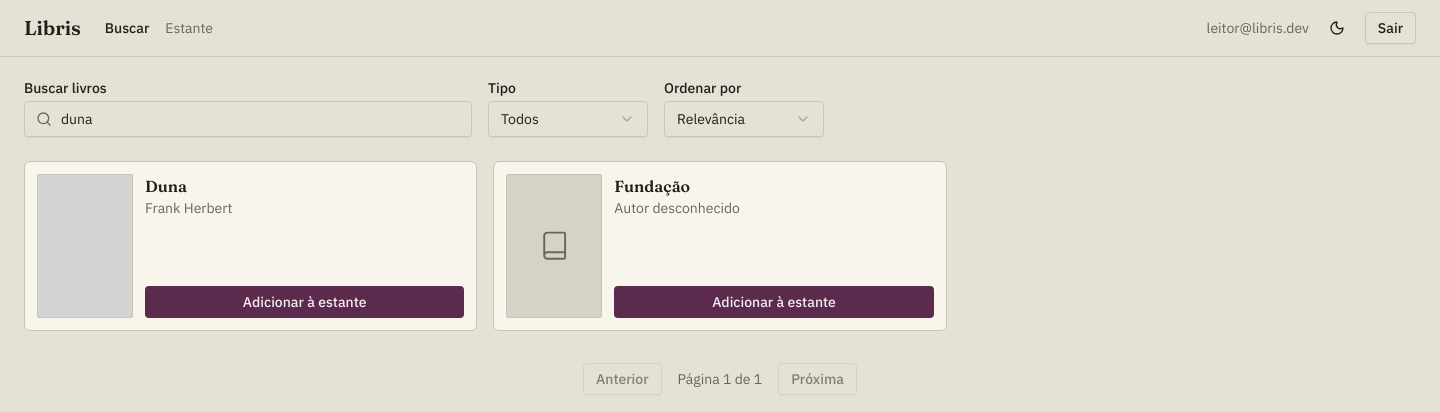
it: Integração: busca → estante › adicionar um livro pelo BookCard na busca faz ele aparecer na estante com status "Quero Ler"
Check: the text "Duna" is shown, box x1=145 y1=176 x2=187 y2=196
Check: the text "Fundação" is shown, box x1=614 y1=176 x2=690 y2=196
Click the button "Adicionar à estante" below "Frank Herbert": (305,302) x1=145 y1=286 x2=464 y2=318
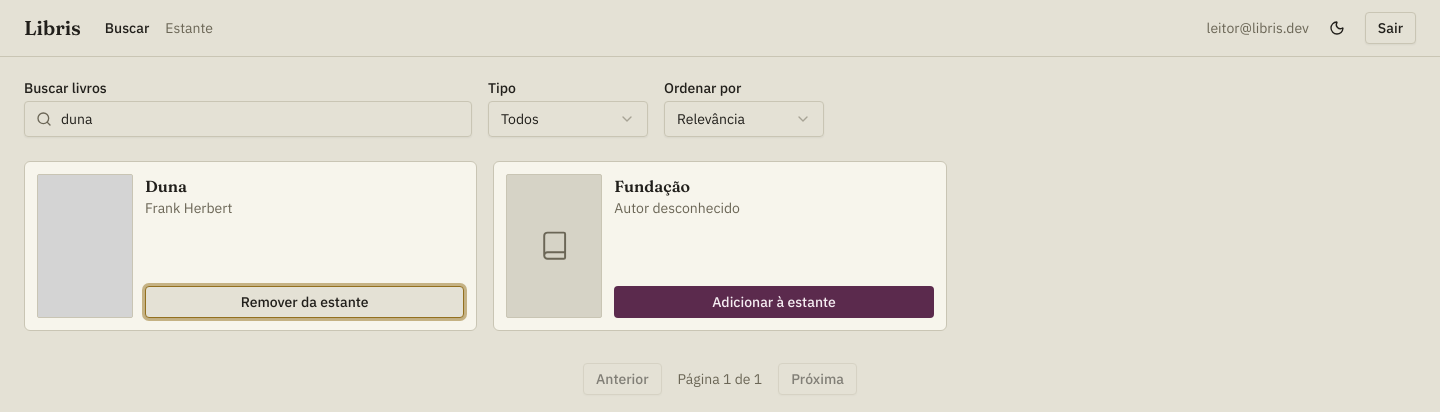
Click the link "Estante": (189,28) x1=165 y1=18 x2=213 y2=38
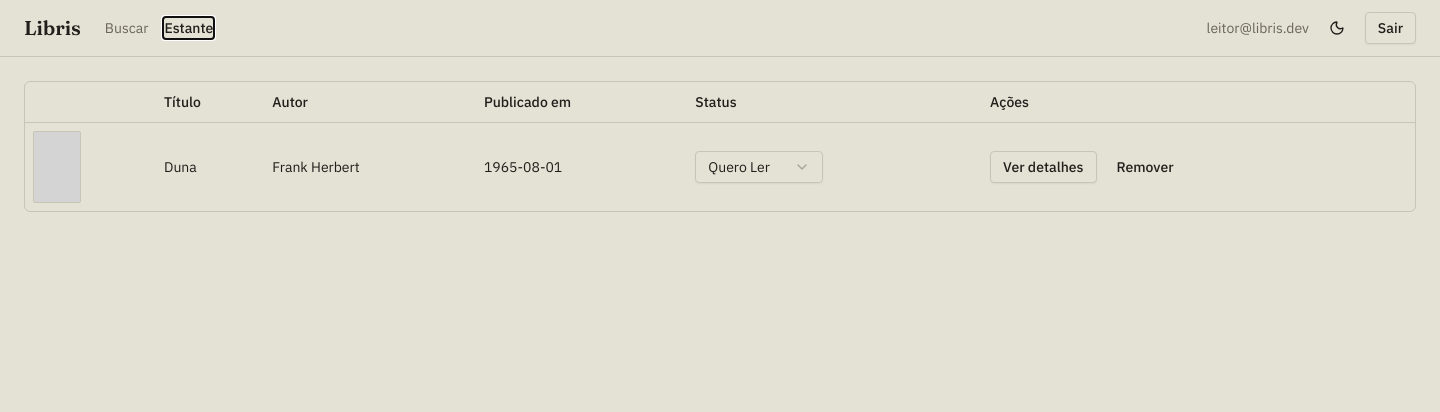
Check: the text "Duna" is shown, box x1=164 y1=158 x2=197 y2=176
Check: the text "Quero Ler" is shown, box x1=708 y1=156 x2=770 y2=176
